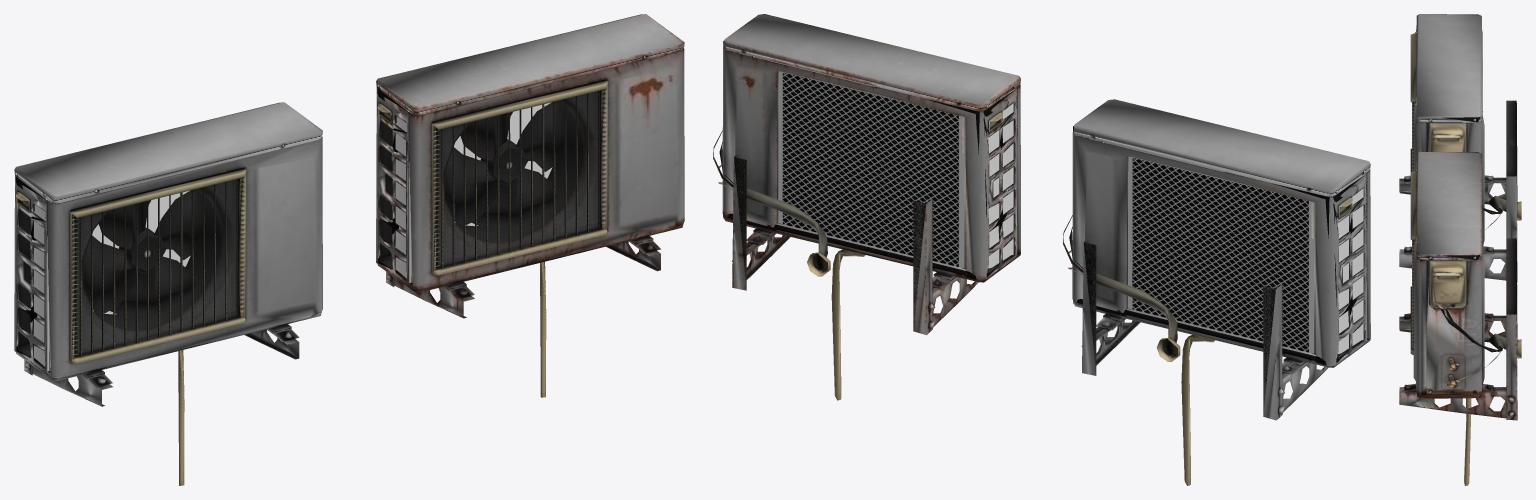
File: air_conditioner.glb
The picture shows the model from 3 angles, left to right: view 1: azimuth 30°, elevation 25°; view 2: azimuth 150°, elevation 25°; view 3: azimuth 270°, elevation 25°; orthographic projection. The views are drawn at different scales.
Visible parts, largest first — view 1: exterior_aircon_unit, exterior_aircon_unit_rusted; view 2: exterior_aircon_unit, exterior_aircon_unit_rusted; view 3: exterior_aircon_unit_rusted, exterior_aircon_unit.
Boxes of the visible parts, x1,y1,x2,y2 form: exterior_aircon_unit: (14,102,322,485); exterior_aircon_unit_rusted: (376,14,684,397); exterior_aircon_unit: (1063,99,1370,485); exterior_aircon_unit_rusted: (713,14,1020,400); exterior_aircon_unit_rusted: (1399,151,1521,485); exterior_aircon_unit: (1399,14,1521,282).
Size of the model in its own units: 1.8 by 0.9279 by 0.3742.
Materials: 4 (4 with a texture image).
